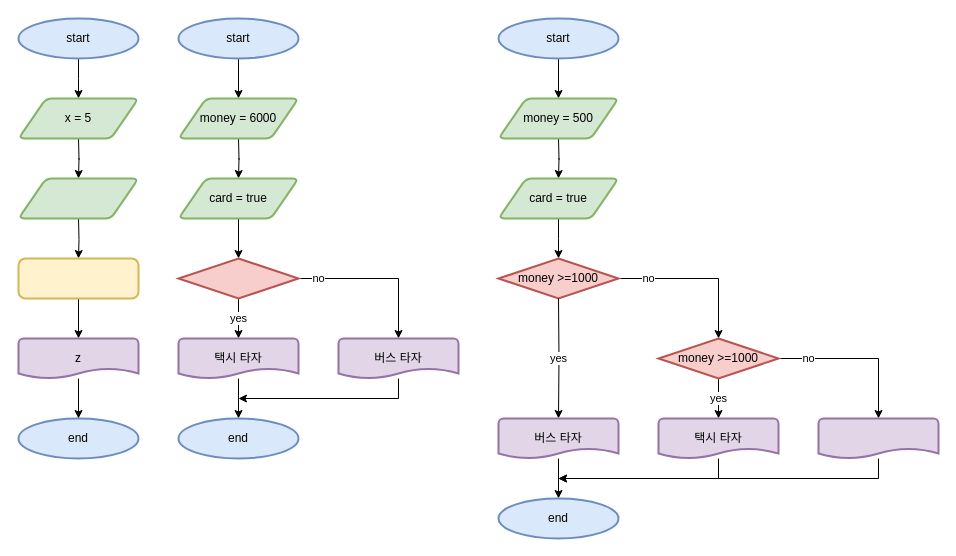
Image size: 956x556. Some labels were removed from this diagram. Each missing label, with the centre of its shape:
money >=5000 || card = true: [238,278]
y = 10: [78,198]
z = x + y: [78,278]
걸어 가자: [878,438]
